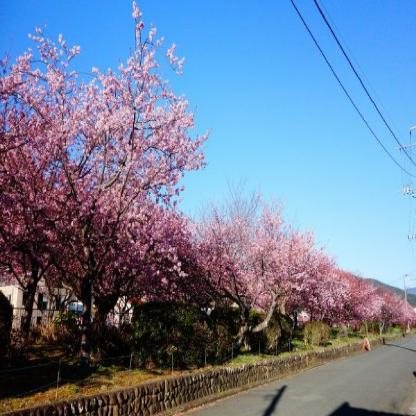KawazuSakura: (0, 0, 212, 357), (168, 189, 416, 332)
